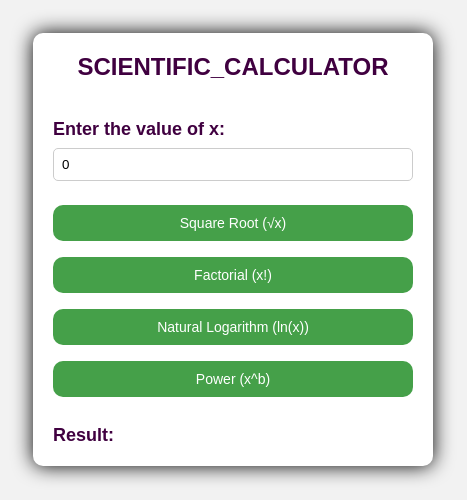
Test: calculates factorial correctly
Replace the text in the number field with "5" at point(233, 164), box [53,148,413,181]
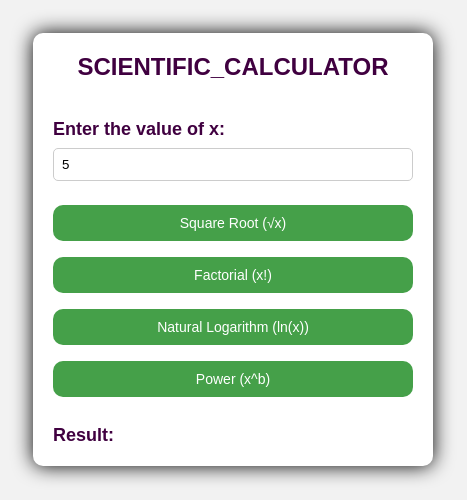
Click the button "Factorial (x!)" at point(233, 275), box [53,257,413,293]
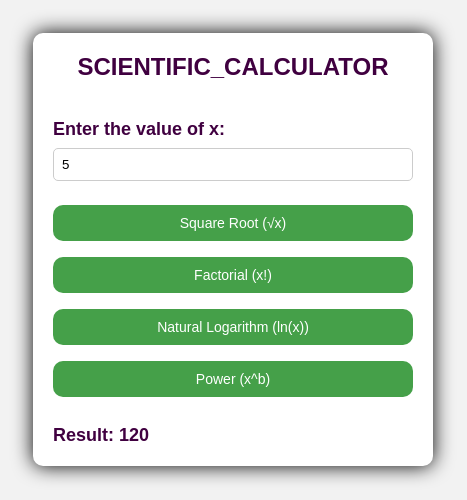
Expected: the heading "Result: 120" is shown, [53,425,149,445]
